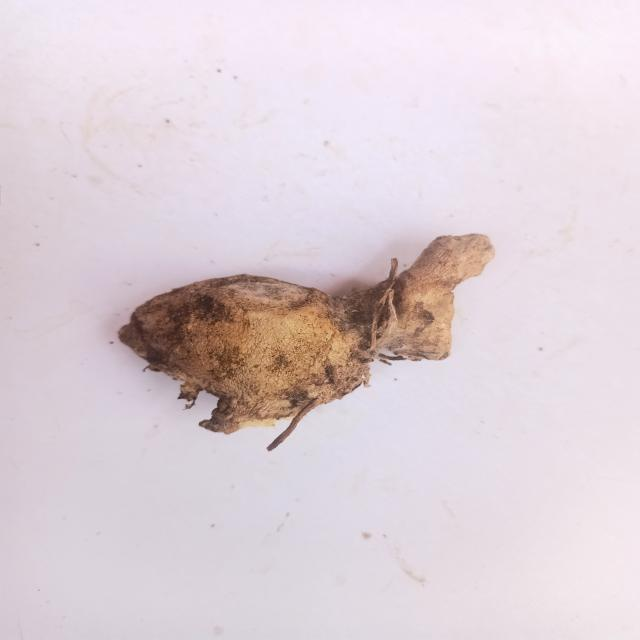Ginger: (107, 223, 504, 460)
